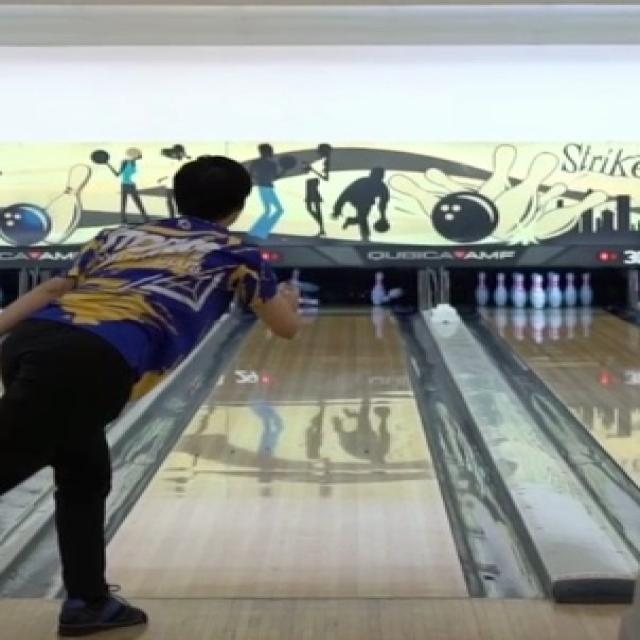alley: (110, 309, 464, 598)
bottle: (360, 273, 403, 305), (288, 270, 320, 310)
